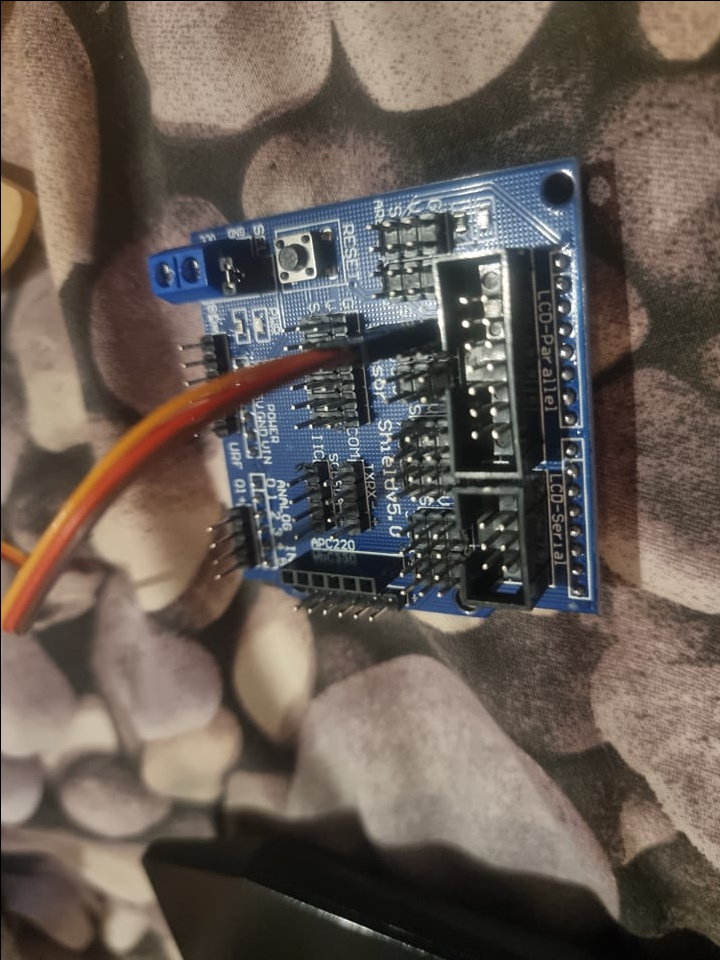5V EXPANSION: (147, 151, 603, 621)
